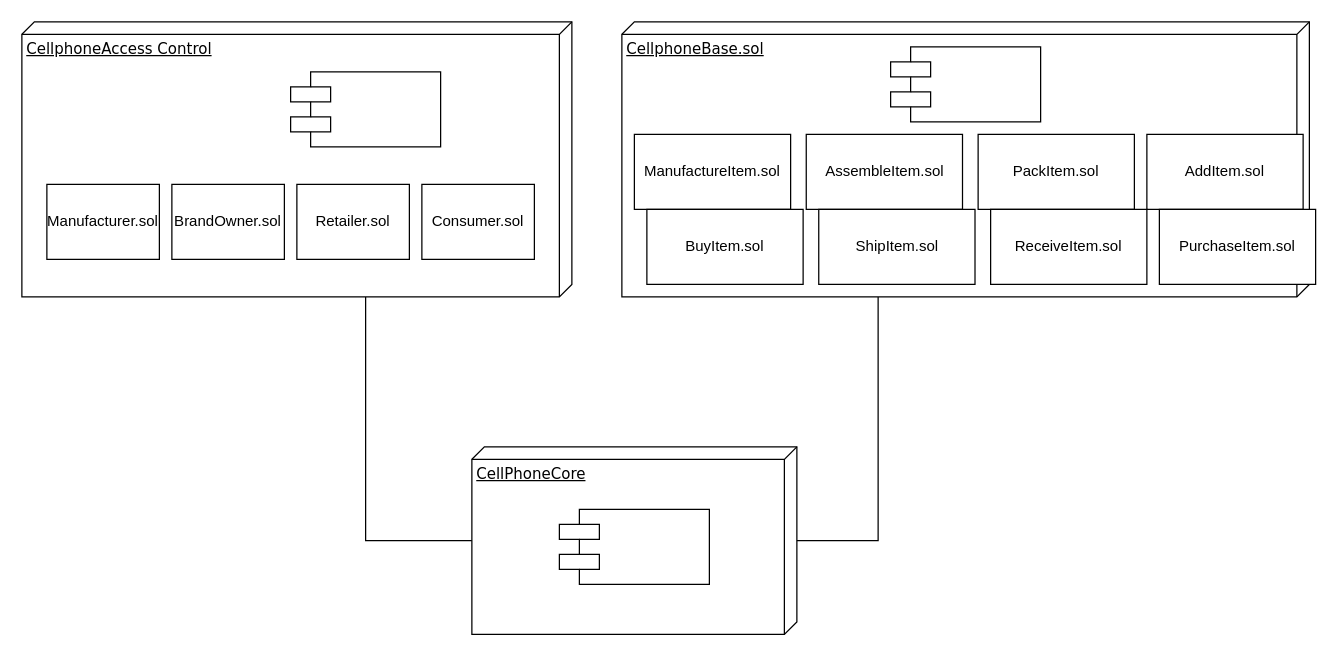
The diagram is 1338 pixels wide and 656 high, and some of its shapes have lost their labels. Each missing label, with the centre of its shape:
"Module" belongs at point 965,84.
"Roles.sol" belongs at point 365,109.
"ValueChain.sol" belongs at point 633,546.
